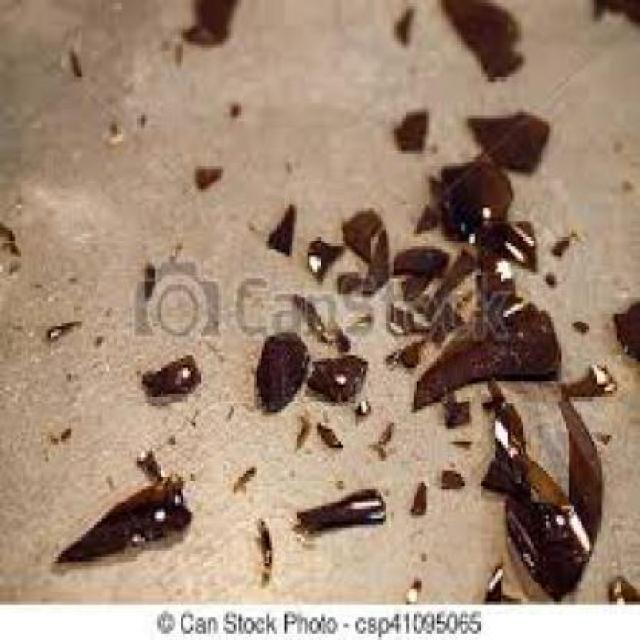kaca: (503, 377, 599, 595), (412, 291, 558, 403), (46, 474, 188, 560), (430, 157, 512, 243), (440, 0, 522, 80), (468, 103, 549, 174), (289, 483, 383, 531), (472, 211, 538, 272), (137, 346, 198, 406), (254, 332, 300, 406), (358, 230, 397, 302), (303, 352, 362, 394), (340, 208, 386, 260), (180, 0, 231, 45), (386, 240, 446, 278), (292, 288, 331, 340), (566, 362, 612, 403), (265, 202, 297, 260), (612, 294, 637, 358), (394, 106, 429, 151), (300, 231, 335, 275), (480, 560, 520, 598), (589, 0, 636, 32), (252, 516, 276, 576), (603, 569, 639, 602), (440, 388, 471, 426), (389, 301, 422, 334), (391, 3, 414, 48), (409, 198, 437, 234), (134, 448, 160, 486), (315, 420, 348, 448), (386, 340, 419, 368), (40, 317, 82, 338), (404, 480, 428, 515), (140, 260, 157, 308), (63, 38, 82, 80), (229, 465, 260, 489), (188, 163, 218, 186), (0, 221, 18, 256), (289, 409, 305, 448), (354, 394, 377, 421), (397, 278, 425, 300), (332, 266, 356, 291), (550, 228, 572, 252), (404, 572, 422, 598), (348, 305, 370, 326), (440, 471, 465, 489), (51, 416, 71, 438), (375, 416, 394, 438), (543, 266, 559, 288), (368, 438, 386, 457), (226, 98, 243, 118), (450, 435, 472, 448), (565, 314, 580, 329), (89, 329, 102, 346)
